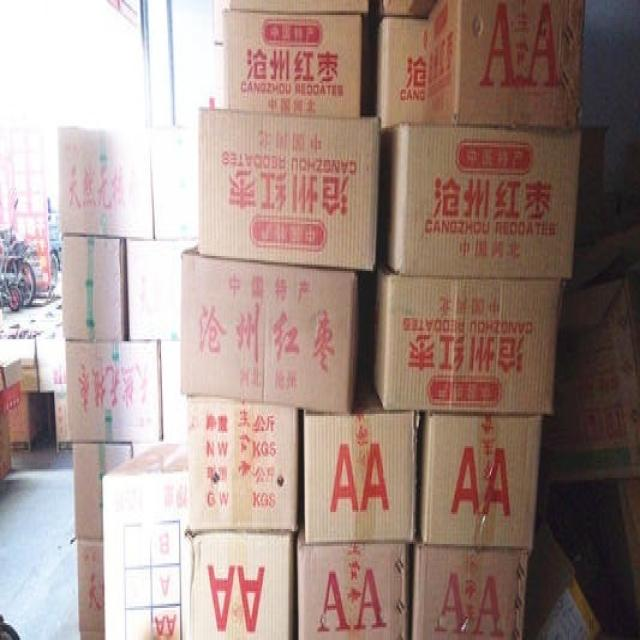box: (379, 122, 584, 279), (183, 243, 361, 416), (373, 260, 566, 416), (197, 109, 381, 271), (427, 0, 586, 128), (304, 386, 419, 548), (101, 442, 189, 640), (420, 412, 544, 550), (222, 9, 361, 119), (187, 397, 298, 531), (297, 529, 408, 640), (187, 531, 294, 640), (58, 124, 154, 241), (411, 546, 530, 640), (65, 341, 163, 442), (363, 17, 430, 128), (126, 237, 197, 341), (61, 235, 126, 341), (73, 439, 133, 538), (150, 126, 201, 241), (76, 540, 106, 640), (160, 339, 187, 444), (227, 0, 370, 15)
